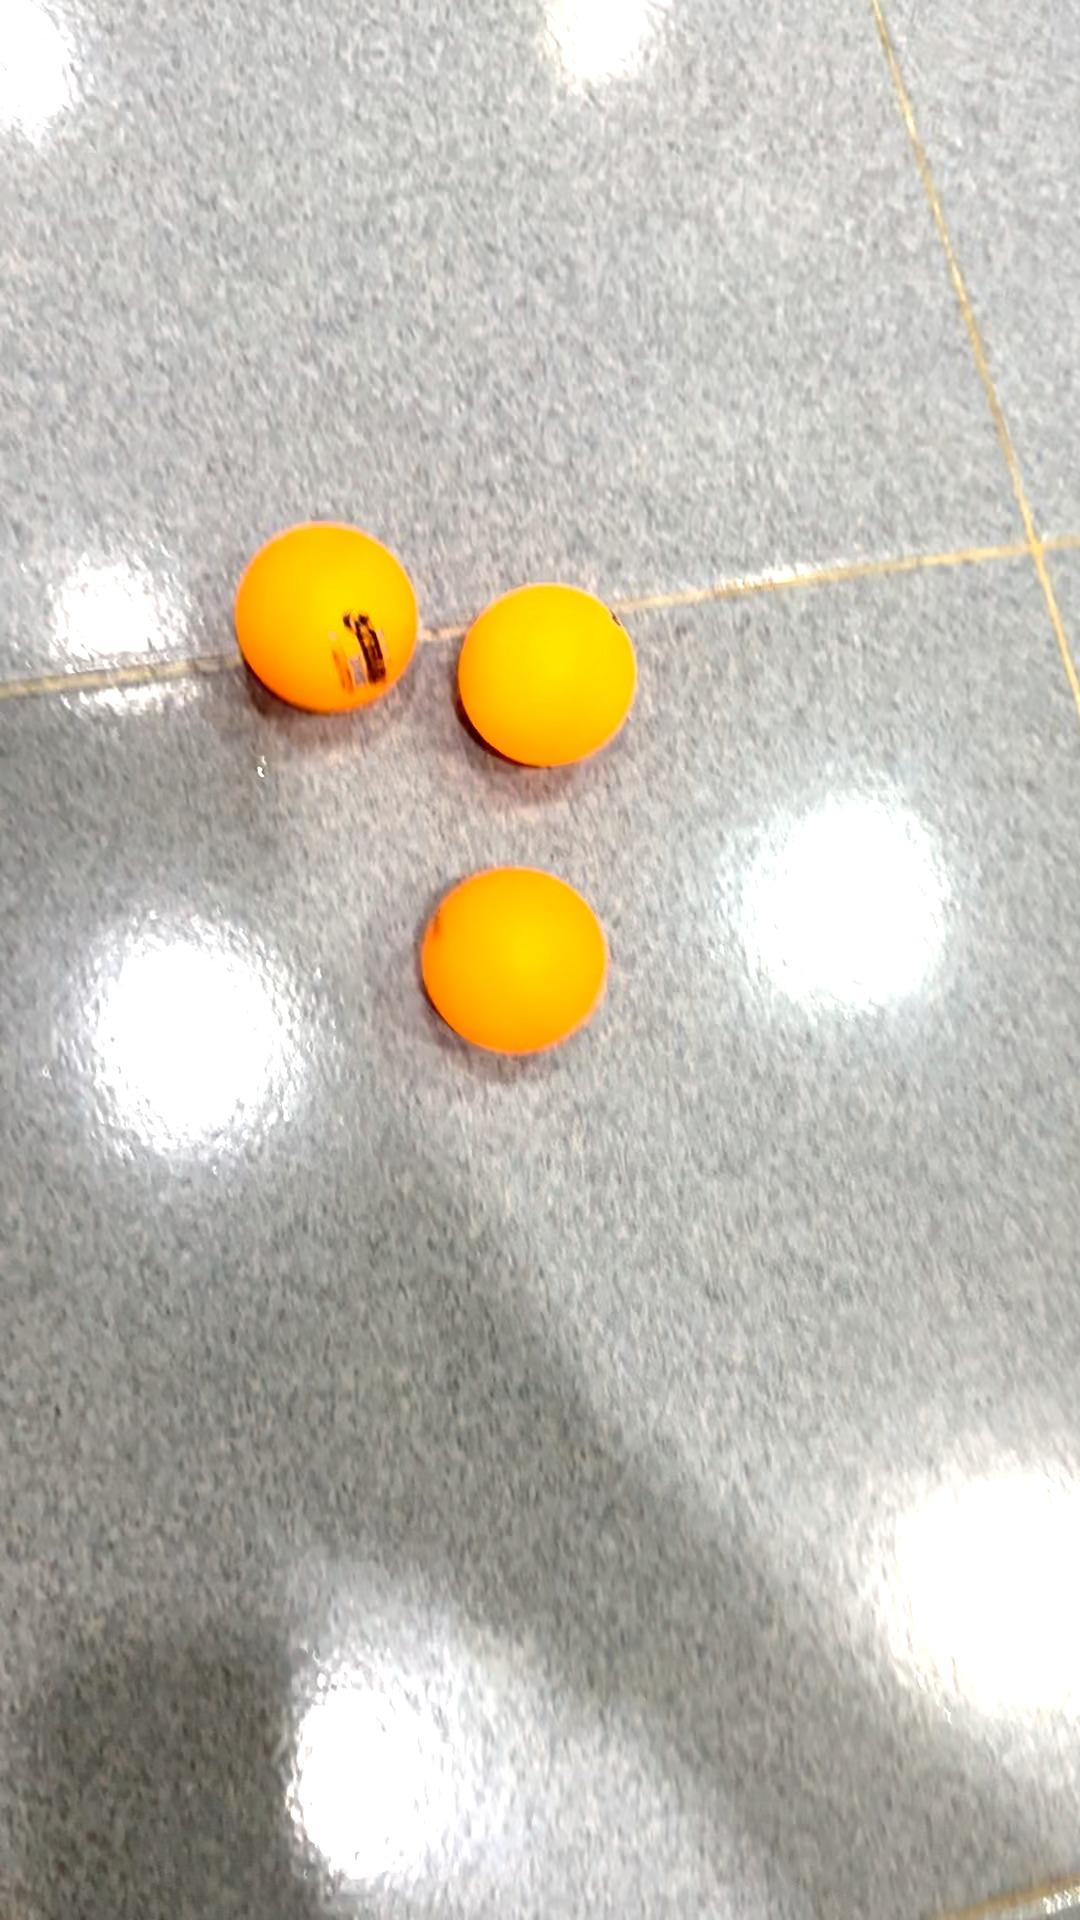oball: (415, 864, 621, 1077), (228, 525, 429, 713), (448, 571, 632, 769)
